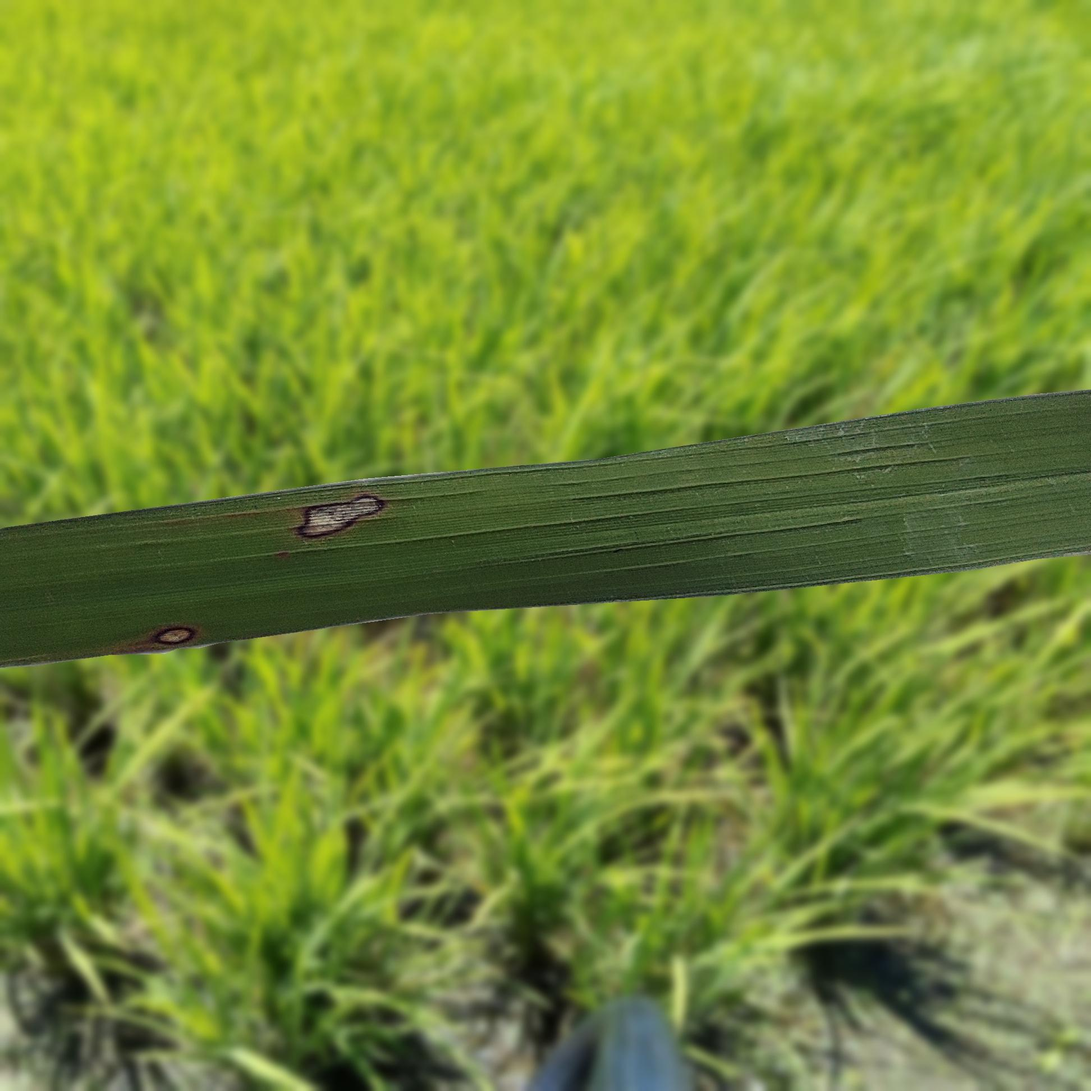LEAF BLAST: (297, 494, 384, 538), (154, 626, 195, 646)
